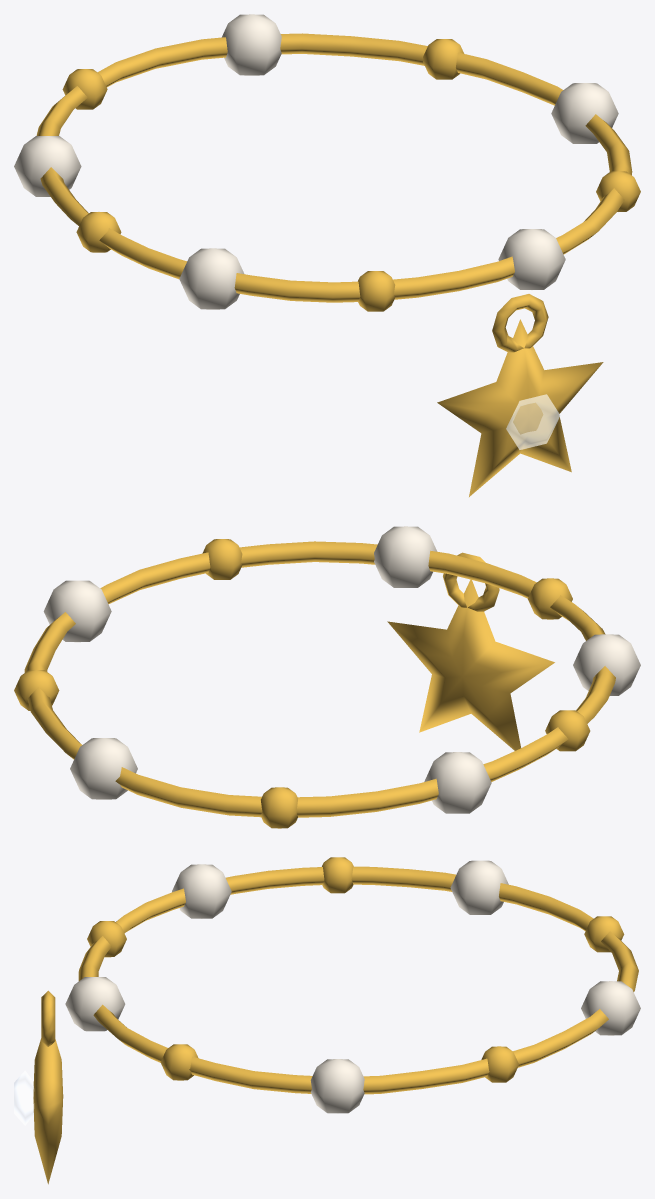
Rendered from anklet.glb.
3 views of the same model, one above another, from view 1: azimuth 30°, elevation 25°; view 2: azimuth 150°, elevation 25°; view 3: azimuth 270°, elevation 25° (orthographic). The views are drawn at different scales.
Visible parts, largest first — view 1: anklet; view 2: anklet; view 3: anklet.
Part boxes in pixels (left/top/right/bottom): anklet: left=14, top=14, right=640, bottom=496; anklet: left=14, top=526, right=640, bottom=828; anklet: left=14, top=857, right=640, bottom=1184.
Size of the model in its own units: 0.0542 by 0.0223 by 0.0626.
